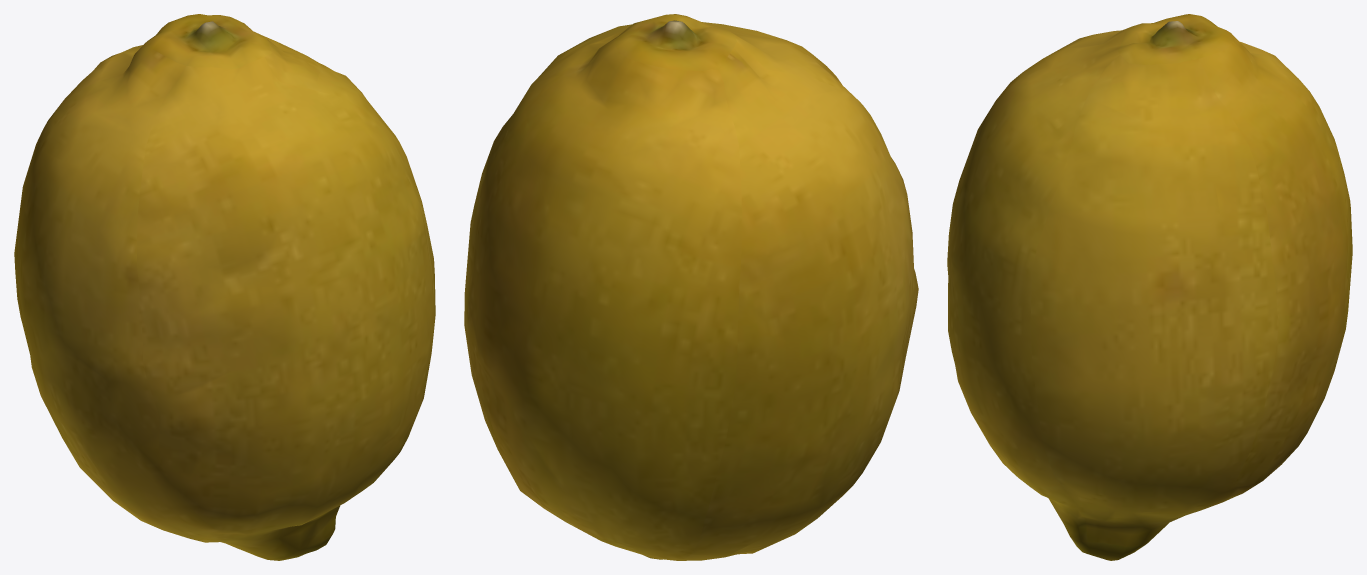
The model's file is lemon.glb.
3 views of the same model, side by side, from view 1: azimuth 30°, elevation 25°; view 2: azimuth 150°, elevation 25°; view 3: azimuth 270°, elevation 25° (orthographic). The views are drawn at different scales.
Parts seen in each view (by area): view 1: lemon; view 2: lemon; view 3: lemon.
Boxes of the visible parts, left/top/right/bottom form: lemon: left=14, top=14, right=435, bottom=560; lemon: left=464, top=14, right=918, bottom=560; lemon: left=947, top=14, right=1352, bottom=560.
Bounding box in the file's own units: 0.0686 × 0.0953 × 0.0682.
Materials: 1 (1 with a texture image).
